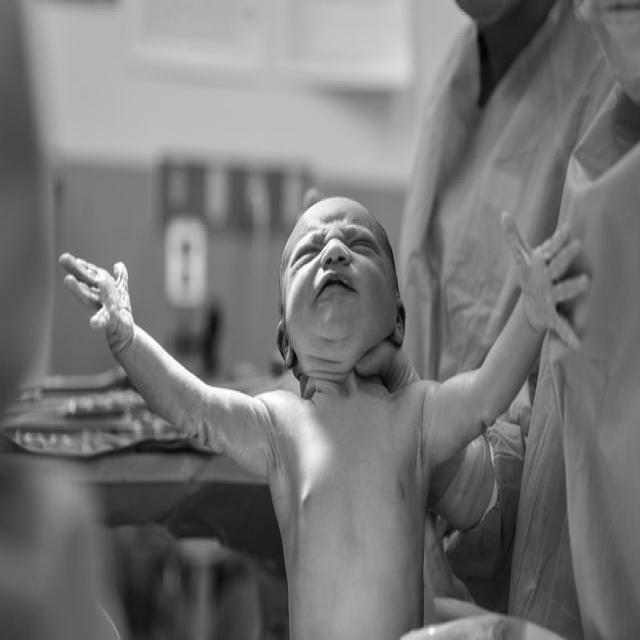non-dog: (57, 194, 600, 640), (377, 1, 640, 640)
